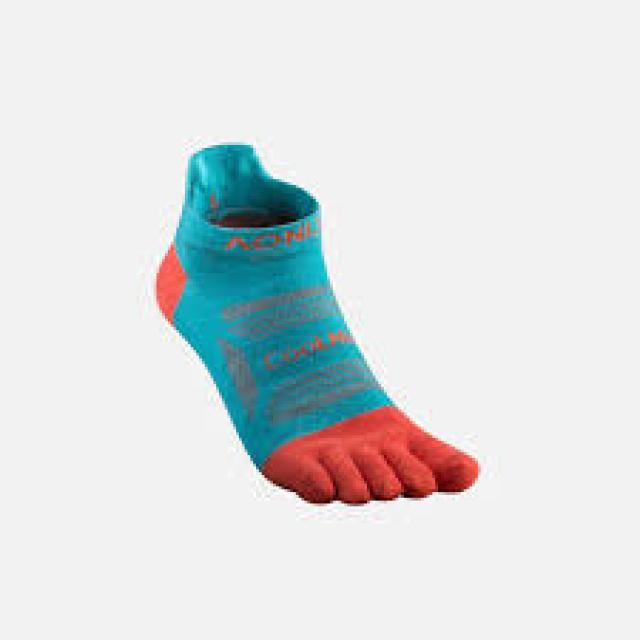sock: (153, 140, 478, 503)
